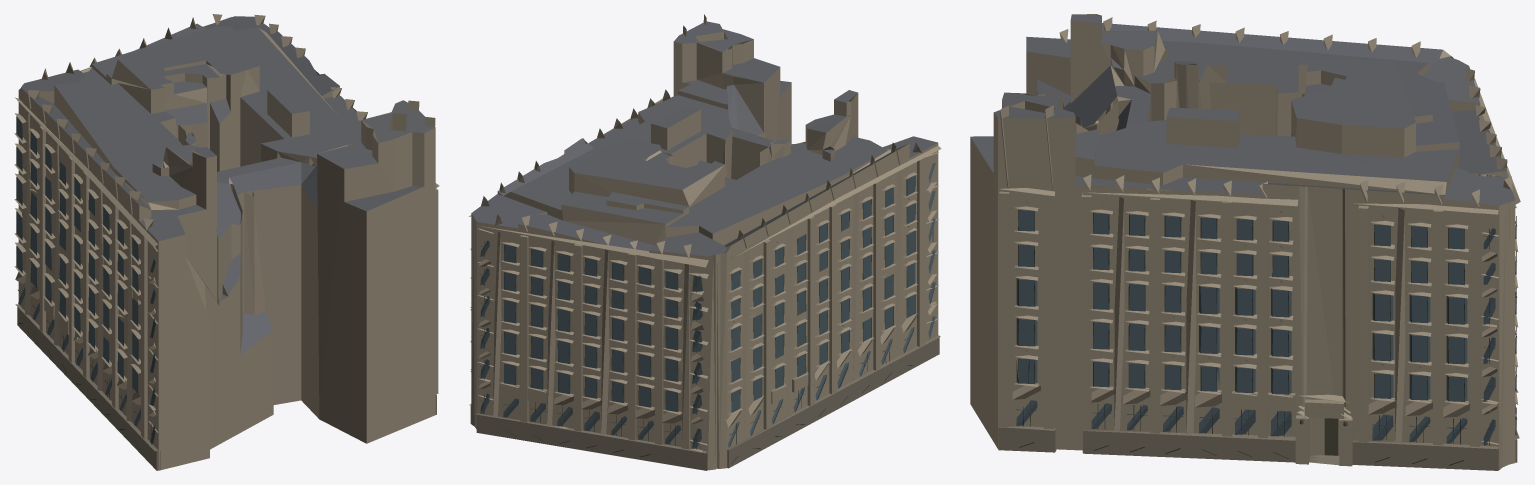
Rendered from bungehuis.lod1.glb.
The picture shows the model from 3 angles, left to right: view 1: azimuth 30°, elevation 25°; view 2: azimuth 150°, elevation 25°; view 3: azimuth 270°, elevation 25°; orthographic projection. The views are drawn at different scales.
Visible parts, largest first — view 1: bungehuis; view 2: bungehuis; view 3: bungehuis.
Part boxes in pixels (left/top/right/bottom): bungehuis: left=14, top=14, right=439, bottom=470; bungehuis: left=469, top=14, right=941, bottom=470; bungehuis: left=970, top=14, right=1520, bottom=470.
Bounding box in the file's own units: 37.63 × 34.54 × 50.33.
